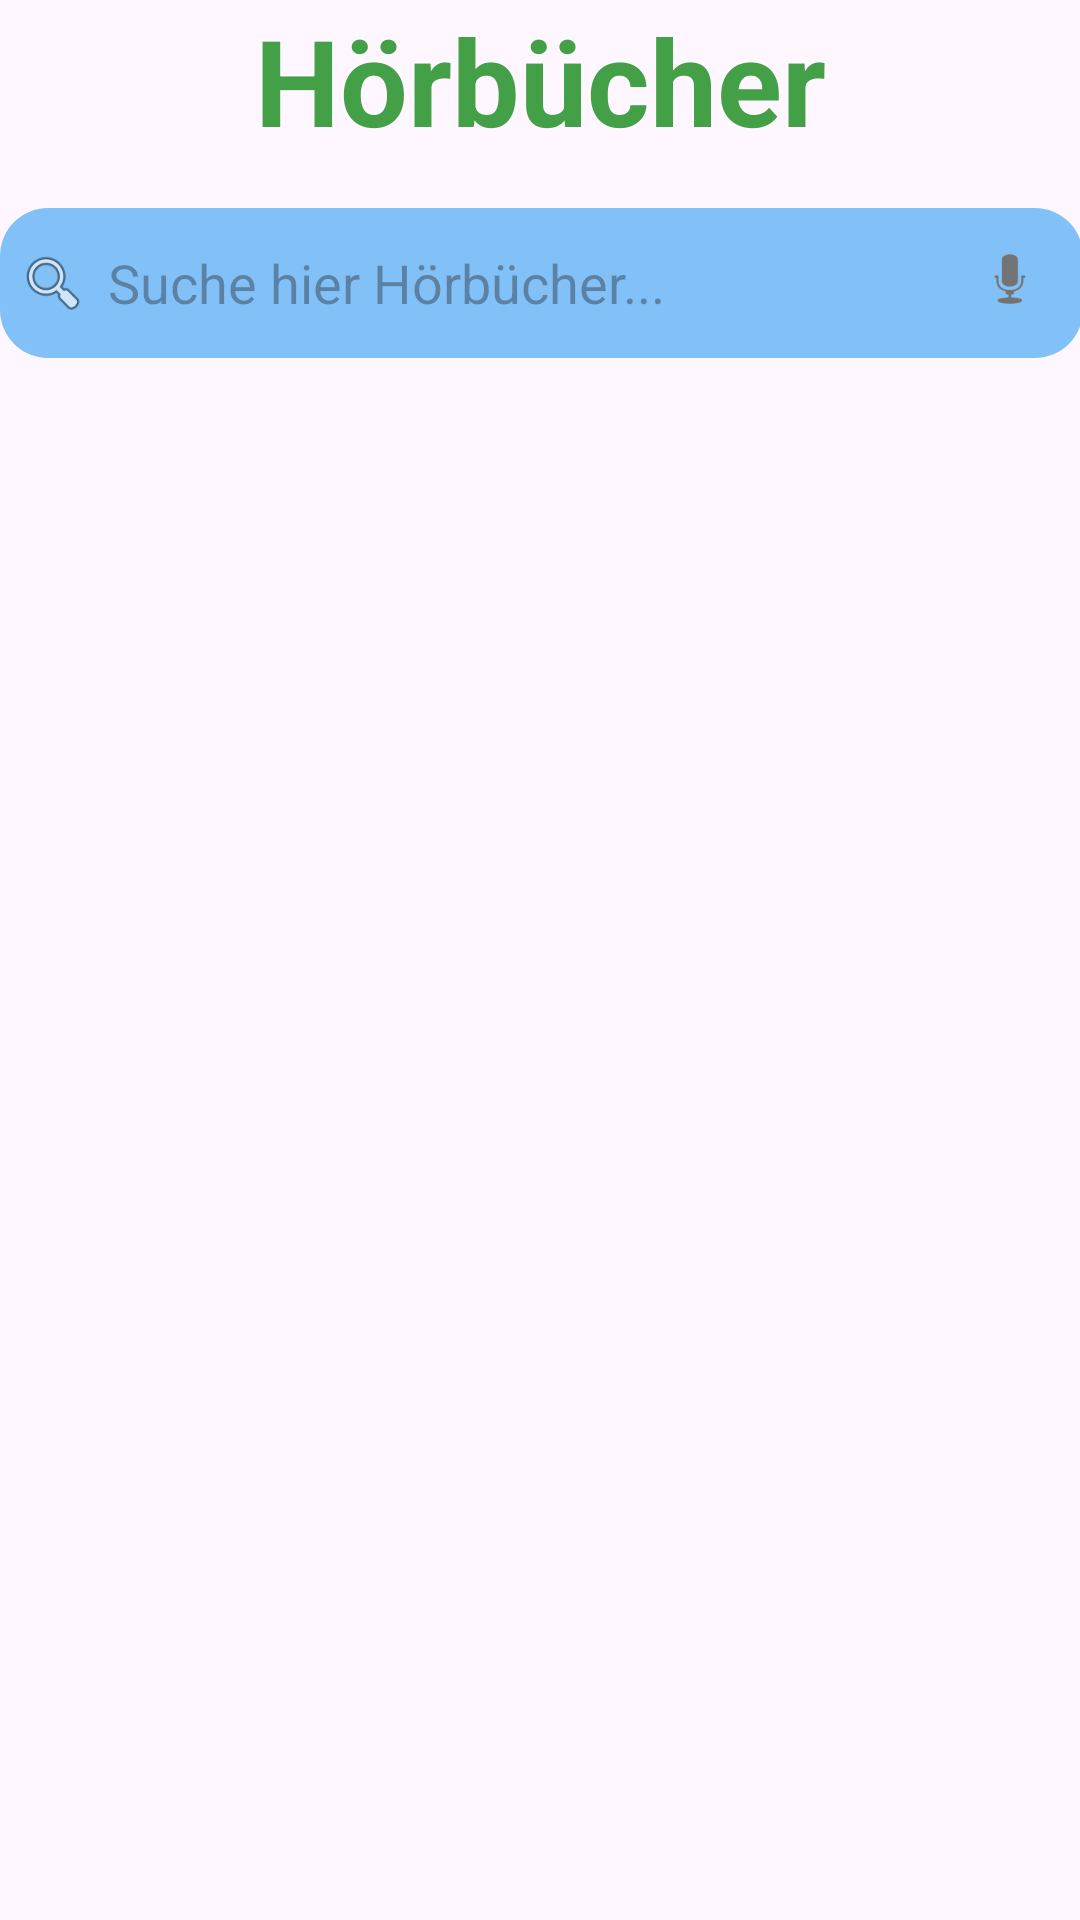

Icons on this 1080px×1920px Android screen, each with the point to tap as [x,y]:
search: [53,283]
speak now: [1010,279]
